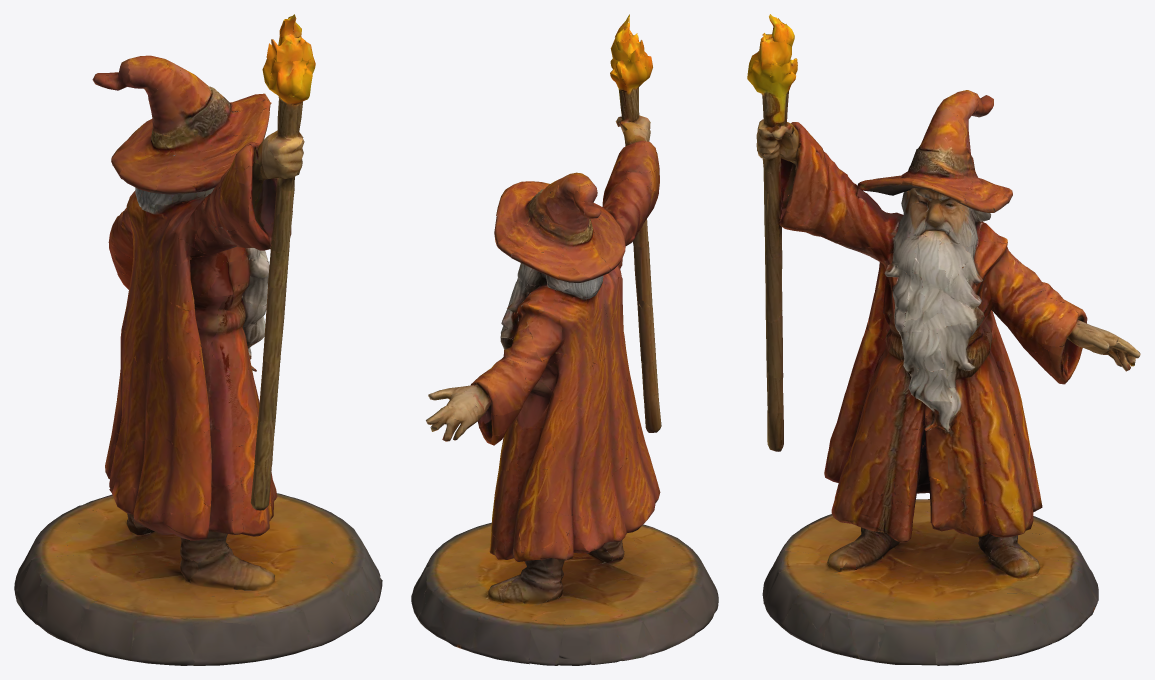
File: istarai.glb
3 views of the same model, side by side, from view 1: azimuth 30°, elevation 25°; view 2: azimuth 150°, elevation 25°; view 3: azimuth 270°, elevation 25° (orthographic). The views are drawn at different scales.
Visible parts, largest first — view 1: istarai; view 2: istarai; view 3: istarai.
Boxes of the visible parts, x1,y1,x2,y2 form: istarai: (14, 14, 382, 665); istarai: (411, 14, 718, 665); istarai: (747, 14, 1140, 665).
Bounding box in the file's own units: 0.4264 × 0.815 × 0.4965.
Materials: 1 (1 with a texture image).
